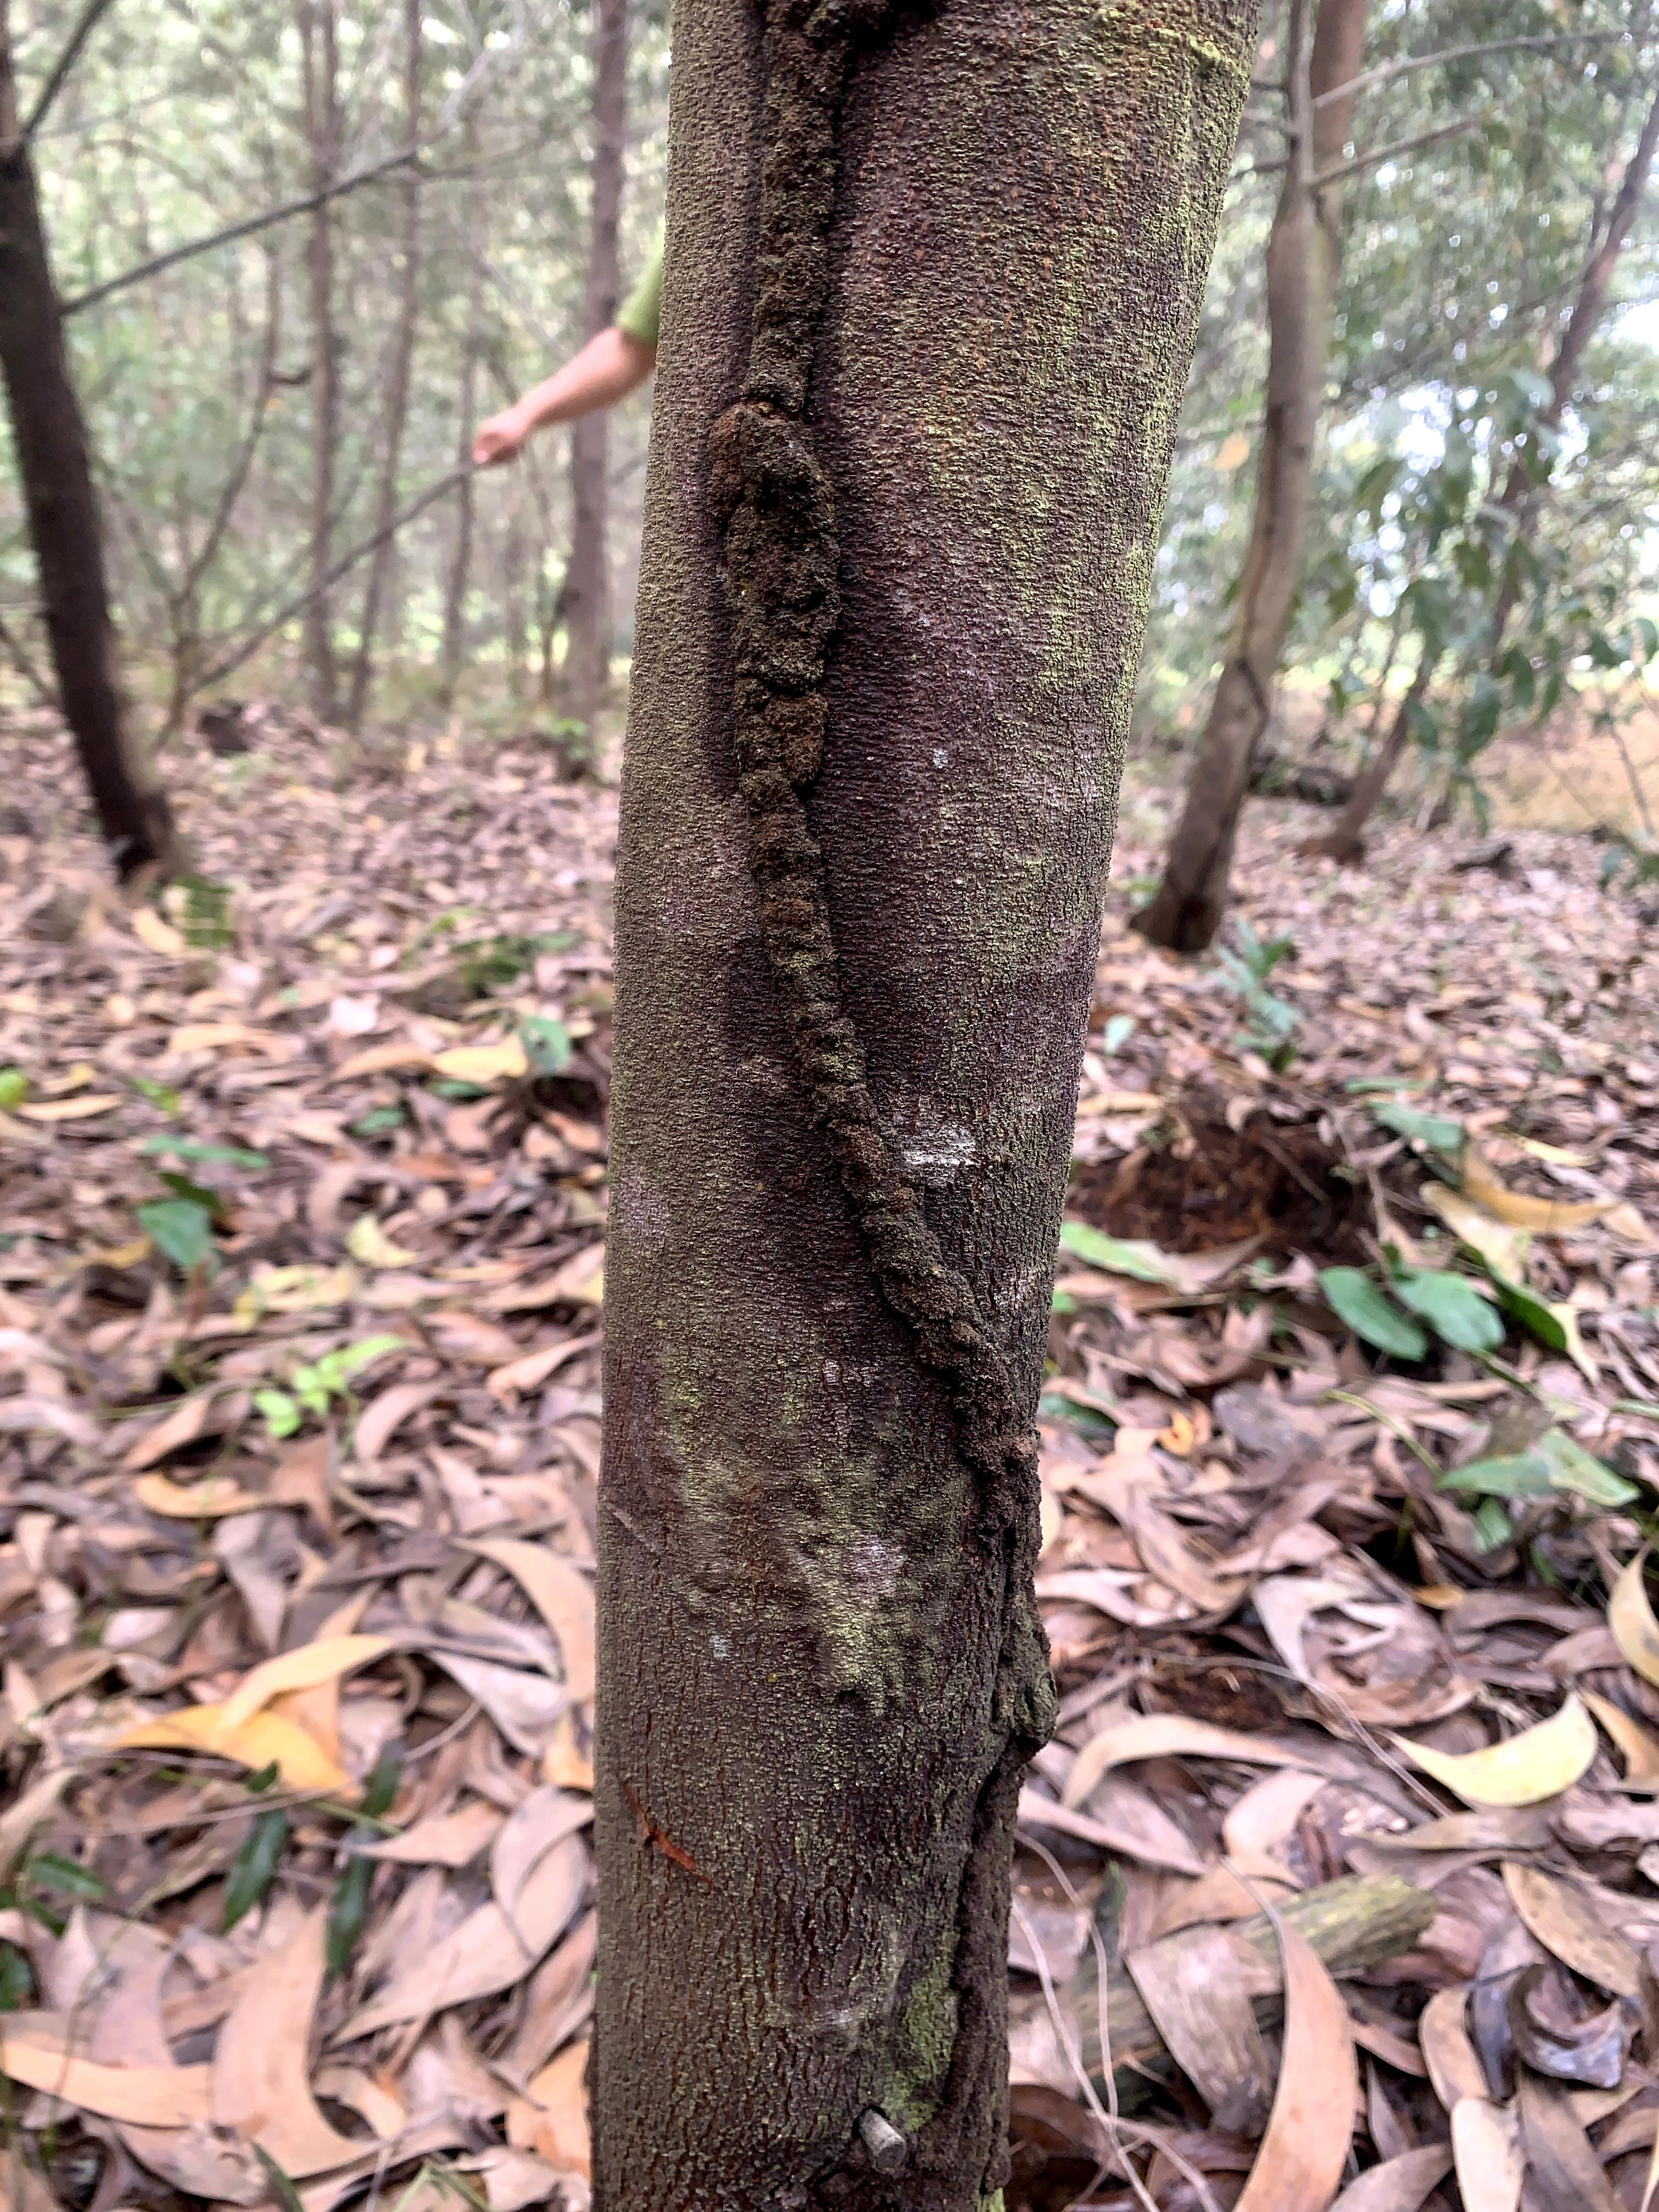Termite - Nest: (676, 0, 1065, 1453)
